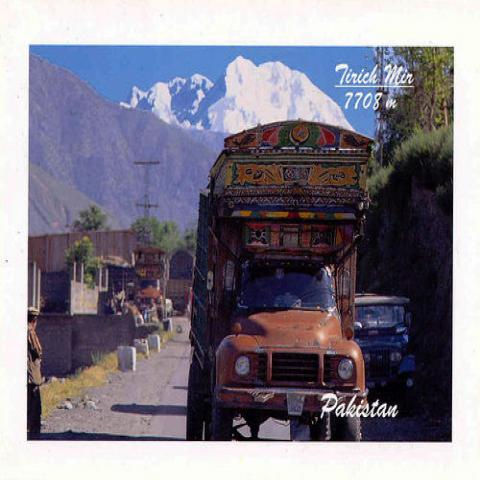car: (352, 294, 421, 415)
truck: (184, 118, 378, 446)
